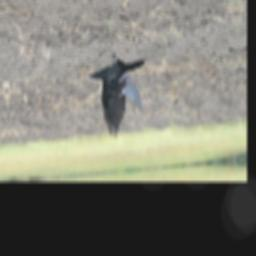Crow: (84, 49, 152, 143)
